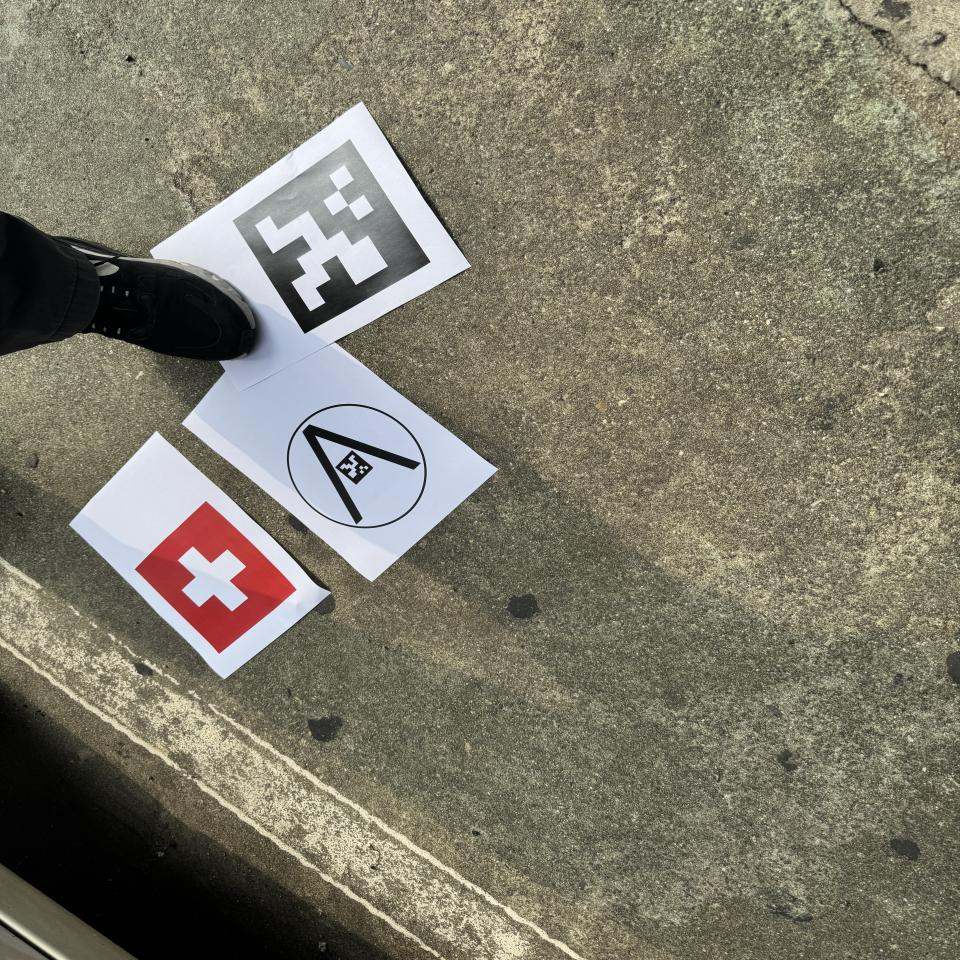ArUro mark: (225, 133, 436, 336)
rescue point: (131, 498, 300, 660)
vertiport: (281, 400, 433, 534)
